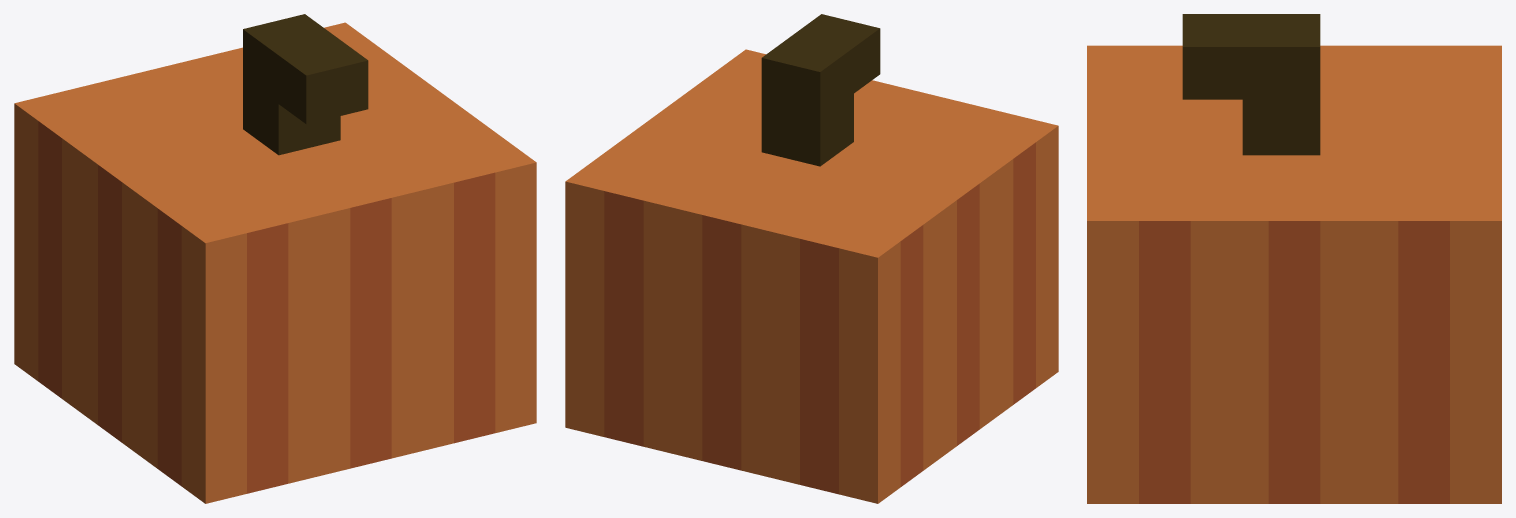
Rendered from fbx_pumpkin02.fbx.
3 renders of one model, left to right at view 1: azimuth 30°, elevation 25°; view 2: azimuth 150°, elevation 25°; view 3: azimuth 270°, elevation 25°, orthographic. The views are drawn at different scales.
Visible parts, largest first — view 1: sm_pumpkin02; view 2: sm_pumpkin02; view 3: sm_pumpkin02.
Boxes of the visible parts, box(x1,y1,x2,y2) form: sm_pumpkin02: box(14, 14, 536, 503); sm_pumpkin02: box(565, 14, 1058, 503); sm_pumpkin02: box(1087, 14, 1501, 503).
Bounding box in the file's own units: 61.8 × 64.33 × 61.8.
